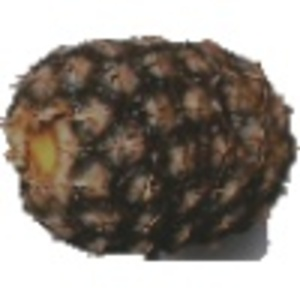abacaxi: (1, 31, 294, 260)
